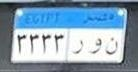3: (52, 33, 65, 54), (15, 33, 27, 55), (40, 33, 51, 54), (28, 33, 39, 54)
noon: (105, 36, 120, 58)
raa: (72, 39, 84, 56)
waw: (88, 37, 103, 58)
